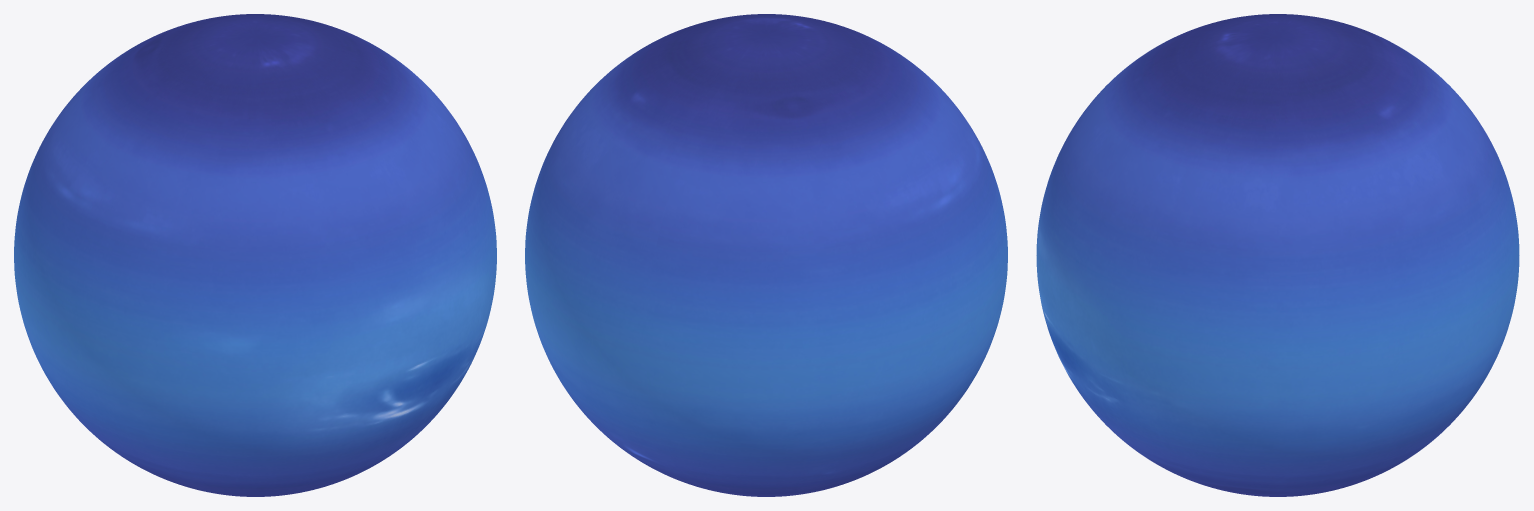
The model's file is neptune.glb.
3 renders of one model, left to right at view 1: azimuth 30°, elevation 25°; view 2: azimuth 150°, elevation 25°; view 3: azimuth 270°, elevation 25°, orthographic.
Parts seen in each view (by area): view 1: Earth; view 2: Earth; view 3: Earth.
Boxes of the visible parts, x1,y1,x2,y2 form: Earth: (14, 14, 496, 496); Earth: (525, 14, 1007, 496); Earth: (1036, 14, 1519, 496).
Bounding box in the file's own units: 100 × 100 × 100.
Materials: 1 (1 with a texture image).
